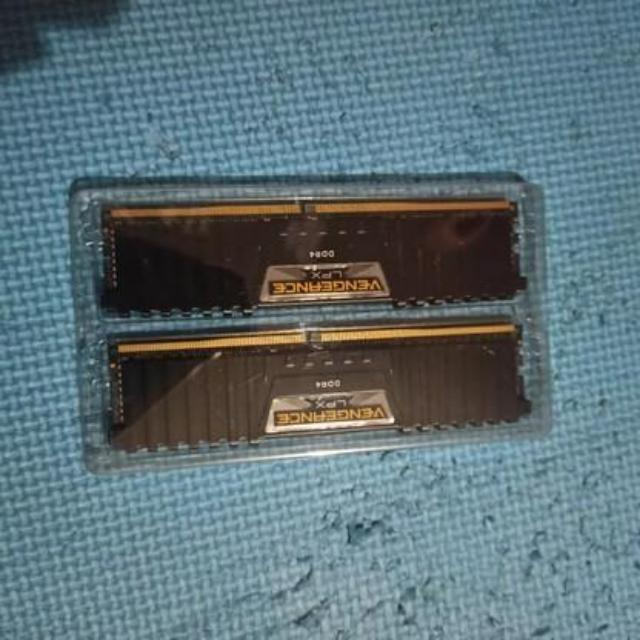RAM: (106, 322, 532, 452), (101, 202, 524, 310)
